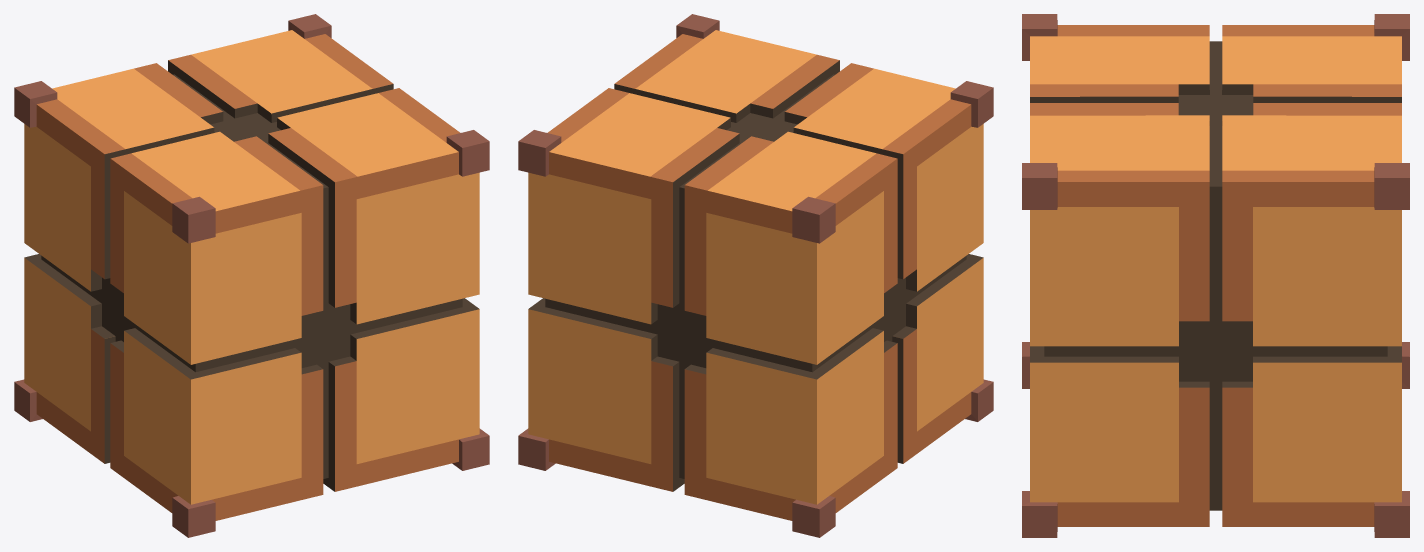
File: SpaceCratev2.glb
The picture shows the model from 3 angles, left to right: view 1: azimuth 30°, elevation 25°; view 2: azimuth 150°, elevation 25°; view 3: azimuth 270°, elevation 25°; orthographic projection. The views are drawn at different scales.
Parts seen in each view (by area): view 1: SpaceCrate; view 2: SpaceCrate; view 3: SpaceCrate.
Part boxes in pixels (x1,y1,x2,y2): SpaceCrate: (14, 14, 489, 537); SpaceCrate: (518, 14, 993, 537); SpaceCrate: (1022, 14, 1409, 537).
Size of what is drawn, in the model's own units: 0.9393 by 0.9617 by 0.9393.
Materials: 1 (1 with a texture image).
